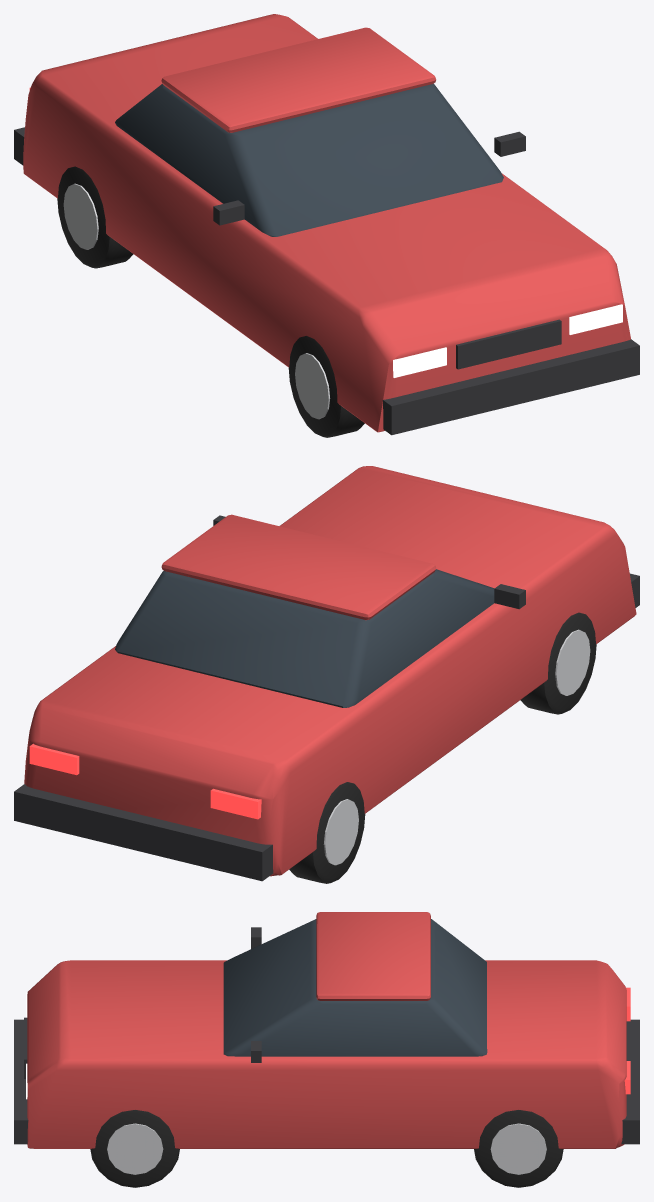
File: car_sedan.glb
The picture shows the model from 3 angles, top to bottom: view 1: azimuth 30°, elevation 25°; view 2: azimuth 150°, elevation 25°; view 3: azimuth 270°, elevation 25°; orthographic projection. The views are drawn at different scales.
Parts seen in each view (by area): view 1: body, wheel_fr, wheel_rr; view 2: body, wheel_fr, wheel_rr; view 3: body, wheel_fl, wheel_rl.
Part boxes in pixels (box(x1,y1,x2,y2)): body: box(14, 14, 639, 435); wheel_fr: box(288, 336, 364, 437); wheel_rr: box(57, 166, 133, 268); body: box(14, 466, 639, 881); wheel_fr: box(520, 612, 596, 714); wheel_rr: box(289, 782, 365, 883); body: box(14, 912, 639, 1148); wheel_fl: box(90, 1110, 179, 1187); wheel_rl: box(474, 1110, 563, 1187).
Bounding box in the file's own units: 2.2 × 1.53 × 4.7.
